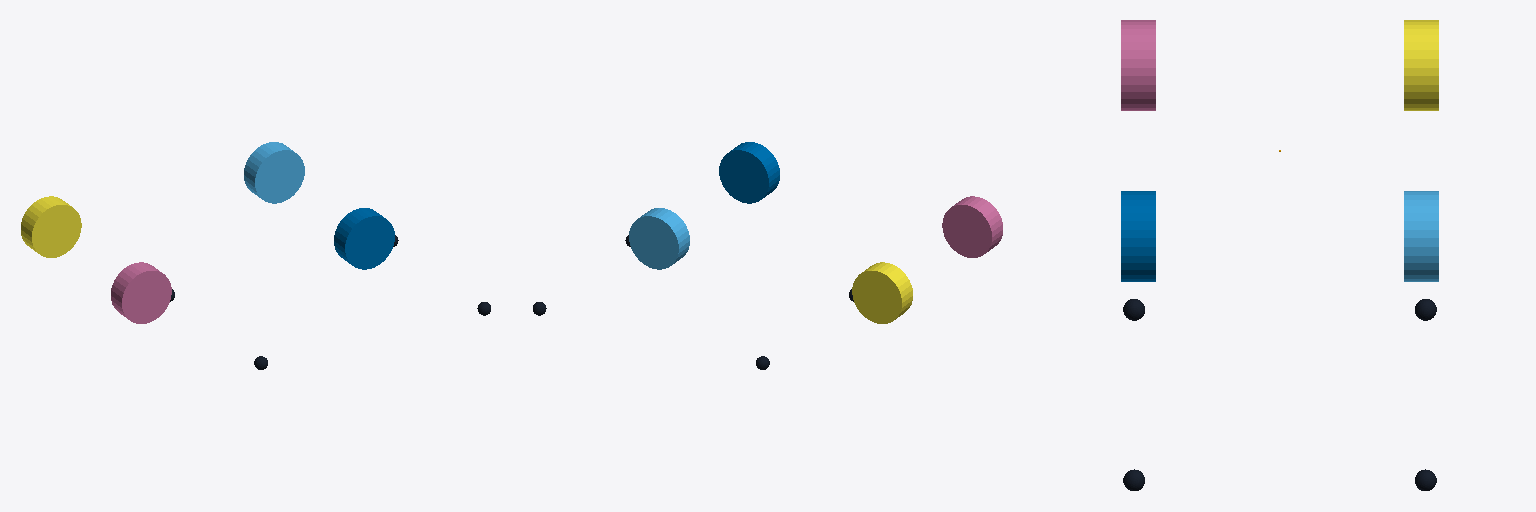
URDF robot description (a1_description):
<?xml version="1.0" ?>
<robot name="a1_description" xmlns:xacro="http://www.ros.org/wiki/xacro">
  <material name="black">
    <color rgba="0.0 0.0 0.0 1.0"/>
  </material>
  <material name="blue">
    <color rgba="0.0 0.0 0.8 1.0"/>
  </material>
  <material name="green">
    <color rgba="0.0 0.8 0.0 1.0"/>
  </material>
  <material name="grey">
    <color rgba="0.2 0.2 0.2 1.0"/>
  </material>
  <material name="silver">
    <color rgba="0.913725490196 0.913725490196 0.847058823529 1.0"/>
  </material>
  <material name="orange">
    <!-- <color rgba="1.0 0.423529411765 0.0392156862745 1.0"/> -->
    <color rgba="0.12 0.15 0.2 1.0"/>
  </material>
  <material name="brown">
    <color rgba="0.870588235294 0.811764705882 0.764705882353 1.0"/>
  </material>
  <material name="red">
    <color rgba="0.8 0.0 0.0 1.0"/>
  </material>
  <material name="white">
    <color rgba="1.0 1.0 1.0 1.0"/>
  </material>
  <link name="base">
    <visual>
      <origin rpy="0 0 0" xyz="0 0 0"/>
      <geometry>
        <box size="0.001 0.001 0.001"/>
      </geometry>
    </visual>
  </link>
  <joint name="floating_base" type="fixed">
    <origin rpy="0 0 0" xyz="0 0 0"/>
    <parent link="base"/>
    <child link="trunk"/>
  </joint>
  <link name="trunk">
    <visual>
      <origin rpy="0 0 0" xyz="0 0 0"/>
      <geometry>
        <mesh filename="../meshes/trunk.dae" scale="1 1 1"/>
      </geometry>
      <material name="orange"/>
    </visual>
    <collision>
      <origin rpy="0 0 0" xyz="0 0 0"/>
      <geometry>
        <box size="0.267 0.194 0.114"/>
      </geometry>
    </collision>
    <inertial>
      <origin rpy="0 0 0" xyz="0.012731 0.002186 0.000515"/>
      <mass value="6.055"/>
      <inertia ixx="0.01683993" ixy="8.3902e-05" ixz="0.000597679" iyy="0.056579028" iyz="2.5134e-05" izz="0.064713601"/>
    </inertial>
  </link>
  <joint name="imu_joint" type="fixed">
    <parent link="trunk"/>
    <child link="imu_link"/>
    <origin rpy="0 0 0" xyz="0 0 0"/>
  </joint>
  <link name="imu_link">
    <inertial>
      <mass value="0.001"/>
      <origin rpy="0 0 0" xyz="0 0 0"/>
      <inertia ixx="0.0001" ixy="0" ixz="0" iyy="0.0001" iyz="0" izz="0.0001"/>
    </inertial>
    <visual>
      <origin rpy="0 0 0" xyz="0 0 0"/>
      <geometry>
        <box size="0.001 0.001 0.001"/>
      </geometry>
      <material name="red"/>
    </visual>
    <!-- <collision>
      <origin rpy="0 0 0" xyz="0 0 0"/>
      <geometry>
        <box size=".001 .001 .001"/>
      </geometry>
    </collision> -->
  </link>
  <joint name="FR_hip_joint" type="revolute">
    <origin rpy="0 0 0" xyz="0.183 -0.047 0"/>
    <parent link="trunk"/>
    <child link="FR_hip"/>
    <axis xyz="1 0 0"/>
    <dynamics damping="0" friction="0"/>
    <limit effort="20" lower="-0.802851455917" upper="0.802851455917" velocity="52.4"/>
  </joint>
  <link name="FR_hip">
    <visual>
      <origin rpy="3.14159265359 0 0" xyz="0 0 0"/>
      <geometry>
        <mesh filename="../meshes/hip.dae" scale="1 1 1"/>
      </geometry>
      <material name="orange"/>
    </visual>
    <!-- <collision>
      <origin rpy="1.57079632679 0 0" xyz="0 0 0"/>
      <geometry>
        <cylinder length="0.04" radius="0.046"/>
      </geometry>
    </collision> -->
    <inertial>
      <origin rpy="0 0 0" xyz="-0.003311 -0.000635 3.1e-05"/>
      <mass value="0.696"/>
      <inertia ixx="0.000469246" ixy="9.409e-06" ixz="-3.42e-07" iyy="0.00080749" iyz="4.66e-07" izz="0.000552929"/>
    </inertial>
  </link>
  <joint name="FR_hip_fixed" type="fixed" dont_collapse="true">
    <origin rpy="0 0 0" xyz="0 -0.081 0"/>
    <parent link="FR_hip"/>
    <child link="FR_thigh_shoulder"/>
  </joint>
  <!-- this link is only for collision -->
  <link name="FR_thigh_shoulder">
    <visual>
      <origin rpy="1.57079632679 0 0" xyz="0 0 0"/>
      <geometry>
        <cylinder length="0.032" radius="0.041"/>
      </geometry>
    </visual>
    <collision>
      <origin rpy="1.57079632679 0 0" xyz="0 0 0"/>
      <geometry>
        <cylinder length="0.032" radius="0.041"/>
      </geometry>
    </collision>
    <inertial>
      <mass value="0.0001"/>
      <inertia ixx="9.6e-06" ixy="0.0" ixz="0.0" iyy="9.6e-06" iyz="0.0" izz="9.6e-06"/>
    </inertial>
  </link>
  <joint name="FR_thigh_joint" type="revolute">
    <origin rpy="0 0 0" xyz="0 -0.08505 0"/>
    <parent link="FR_hip"/>
    <child link="FR_thigh"/>
    <axis xyz="0 1 0"/>
    <dynamics damping="0" friction="0"/>
    <limit effort="55" lower="-1.0471975512" upper="4.18879020479" velocity="28.6"/>
  </joint>
  <link name="FR_thigh">
    <visual>
      <origin rpy="0 0 0" xyz="0 0 0"/>
      <geometry>
        <mesh filename="../meshes/thigh_mirror.dae" scale="1 1 1"/>
      </geometry>
      <material name="orange"/>
    </visual>
    <collision>
      <origin rpy="0 1.57079632679 0" xyz="0 0 -0.1"/>
      <geometry>
        <box size="0.2 0.0245 0.034"/>
      </geometry>
    </collision>
    <inertial>
      <origin rpy="0 0 0" xyz="-0.003237 0.022327 -0.027326"/>
      <mass value="1.013"/>
      <inertia ixx="0.005529065" ixy="-4.825e-06" ixz="0.000343869" iyy="0.005139339" iyz="-2.2448e-05" izz="0.001367788"/>
    </inertial>
  </link>
  <joint name="FR_calf_joint" type="revolute">
    <origin rpy="0 0 0" xyz="0 0 -0.2"/>
    <parent link="FR_thigh"/>
    <child link="FR_calf"/>
    <axis xyz="0 1 0"/>
    <dynamics damping="0" friction="0"/>
    <limit effort="55" lower="-2.69653369433" upper="-0.916297857297" velocity="28.6"/>
  </joint>
  <link name="FR_calf">
    <visual>
      <origin rpy="0 0 0" xyz="0 0 0"/>
      <geometry>
        <mesh filename="../meshes/calf.dae" scale="1 1 1"/>
      </geometry>
      <material name="orange"/>
    </visual>
    <collision>
      <origin rpy="0 1.57079632679 0" xyz="0 0 -0.1"/>
      <geometry>
        <box size="0.2 0.016 0.016"/>
      </geometry>
    </collision>
    <inertial>
      <origin rpy="0 0 0" xyz="0.006435 0.0 -0.107388"/>
      <mass value="0.166"/>
      <inertia ixx="0.002997972" ixy="0.0" ixz="-0.000141163" iyy="0.003014022" iyz="0.0" izz="3.2426e-05"/>
    </inertial>
  </link>
  <joint name="FR_foot_fixed" type="fixed" dont_collapse="true">
    <origin rpy="0 0 0" xyz="0 0 -0.2"/>
    <parent link="FR_calf"/>
    <child link="FR_foot"/>
  </joint>
  <link name="FR_foot">
    <visual>
      <origin rpy="0 0 0" xyz="0 0 0"/>
      <geometry>
        <sphere radius="0.01"/>
      </geometry>
      <material name="orange"/>
    </visual>
    <collision>
      <origin rpy="0 0 0" xyz="0 0 0"/>
      <geometry>
        <sphere radius="0.02"/>
      </geometry>
    </collision>
    <inertial>
      <mass value="0.06"/>
      <inertia ixx="9.6e-06" ixy="0.0" ixz="0.0" iyy="9.6e-06" iyz="0.0" izz="9.6e-06"/>
    </inertial>
  </link>
  <joint name="FL_hip_joint" type="revolute">
    <origin rpy="0 0 0" xyz="0.183 0.047 0"/>
    <parent link="trunk"/>
    <child link="FL_hip"/>
    <axis xyz="1 0 0"/>
    <dynamics damping="0" friction="0"/>
    <limit effort="20" lower="-0.802851455917" upper="0.802851455917" velocity="52.4"/>
  </joint>
  <link name="FL_hip">
    <visual>
      <origin rpy="0 0 0" xyz="0 0 0"/>
      <geometry>
        <mesh filename="../meshes/hip.dae" scale="1 1 1"/>
      </geometry>
      <material name="orange"/>
    </visual>
    <!-- <collision>
      <origin rpy="1.57079632679 0 0" xyz="0 0 0"/>
      <geometry>
        <cylinder length="0.04" radius="0.046"/>
      </geometry>
    </collision> -->
    <inertial>
      <origin rpy="0 0 0" xyz="-0.003311 0.000635 3.1e-05"/>
      <mass value="0.696"/>
      <inertia ixx="0.000469246" ixy="-9.409e-06" ixz="-3.42e-07" iyy="0.00080749" iyz="-4.66e-07" izz="0.000552929"/>
    </inertial>
  </link>
  <joint name="FL_hip_fixed" type="fixed" dont_collapse="true">
    <origin rpy="0 0 0" xyz="0 0.081 0"/>
    <parent link="FL_hip"/>
    <child link="FL_thigh_shoulder"/>
  </joint>
  <!-- this link is only for collision -->
  <link name="FL_thigh_shoulder">
    <visual>
      <origin rpy="1.57079632679 0 0" xyz="0 0 0"/>
      <geometry>
        <cylinder length="0.032" radius="0.041"/>
      </geometry>
    </visual>
    <collision>
      <origin rpy="1.57079632679 0 0" xyz="0 0 0"/>
      <geometry>
        <cylinder length="0.032" radius="0.041"/>
      </geometry>
    </collision>
    <inertial>
      <mass value="0.0001"/>
      <inertia ixx="9.6e-06" ixy="0.0" ixz="0.0" iyy="9.6e-06" iyz="0.0" izz="9.6e-06"/>
    </inertial>
  </link>
  <joint name="FL_thigh_joint" type="revolute">
    <origin rpy="0 0 0" xyz="0 0.08505 0"/>
    <parent link="FL_hip"/>
    <child link="FL_thigh"/>
    <axis xyz="0 1 0"/>
    <dynamics damping="0" friction="0"/>
    <limit effort="55" lower="-1.0471975512" upper="4.18879020479" velocity="28.6"/>
  </joint>
  <link name="FL_thigh">
    <visual>
      <origin rpy="0 0 0" xyz="0 0 0"/>
      <geometry>
        <mesh filename="../meshes/thigh.dae" scale="1 1 1"/>
      </geometry>
      <material name="orange"/>
    </visual>
    <collision>
      <origin rpy="0 1.57079632679 0" xyz="0 0 -0.1"/>
      <geometry>
        <box size="0.2 0.0245 0.034"/>
      </geometry>
    </collision>
    <inertial>
      <origin rpy="0 0 0" xyz="-0.003237 -0.022327 -0.027326"/>
      <mass value="1.013"/>
      <inertia ixx="0.005529065" ixy="4.825e-06" ixz="0.000343869" iyy="0.005139339" iyz="2.2448e-05" izz="0.001367788"/>
    </inertial>
  </link>
  <joint name="FL_calf_joint" type="revolute">
    <origin rpy="0 0 0" xyz="0 0 -0.2"/>
    <parent link="FL_thigh"/>
    <child link="FL_calf"/>
    <axis xyz="0 1 0"/>
    <dynamics damping="0" friction="0"/>
    <limit effort="55" lower="-2.69653369433" upper="-0.916297857297" velocity="28.6"/>
  </joint>
  <link name="FL_calf">
    <visual>
      <origin rpy="0 0 0" xyz="0 0 0"/>
      <geometry>
        <mesh filename="../meshes/calf.dae" scale="1 1 1"/>
      </geometry>
      <material name="orange"/>
    </visual>
    <collision>
      <origin rpy="0 1.57079632679 0" xyz="0 0 -0.1"/>
      <geometry>
        <box size="0.2 0.016 0.016"/>
      </geometry>
    </collision>
    <inertial>
      <origin rpy="0 0 0" xyz="0.006435 0.0 -0.107388"/>
      <mass value="0.166"/>
      <inertia ixx="0.002997972" ixy="0.0" ixz="-0.000141163" iyy="0.003014022" iyz="0.0" izz="3.2426e-05"/>
    </inertial>
  </link>
  <joint name="FL_foot_fixed" type="fixed" dont_collapse="true">
    <origin rpy="0 0 0" xyz="0 0 -0.2"/>
    <parent link="FL_calf"/>
    <child link="FL_foot"/>
  </joint>
  <link name="FL_foot">
    <visual>
      <origin rpy="0 0 0" xyz="0 0 0"/>
      <geometry>
        <sphere radius="0.01"/>
      </geometry>
      <material name="orange"/>
    </visual>
    <collision>
      <origin rpy="0 0 0" xyz="0 0 0"/>
      <geometry>
        <sphere radius="0.02"/>
      </geometry>
    </collision>
    <inertial>
      <mass value="0.06"/>
      <inertia ixx="9.6e-06" ixy="0.0" ixz="0.0" iyy="9.6e-06" iyz="0.0" izz="9.6e-06"/>
    </inertial>
  </link>
  <joint name="RR_hip_joint" type="revolute">
    <origin rpy="0 0 0" xyz="-0.183 -0.047 0"/>
    <parent link="trunk"/>
    <child link="RR_hip"/>
    <axis xyz="1 0 0"/>
    <dynamics damping="0" friction="0"/>
    <limit effort="20" lower="-0.802851455917" upper="0.802851455917" velocity="52.4"/>
  </joint>
  <link name="RR_hip">
    <visual>
      <origin rpy="3.14159265359 3.14159265359 0" xyz="0 0 0"/>
      <geometry>
        <mesh filename="../meshes/hip.dae" scale="1 1 1"/>
      </geometry>
      <material name="orange"/>
    </visual>
    <!-- <collision>
      <origin rpy="1.57079632679 0 0" xyz="0 0 0"/>
      <geometry>
        <cylinder length="0.04" radius="0.046"/>
      </geometry>
    </collision> -->
    <inertial>
      <origin rpy="0 0 0" xyz="0.003311 -0.000635 3.1e-05"/>
      <mass value="0.696"/>
      <inertia ixx="0.000469246" ixy="-9.409e-06" ixz="3.42e-07" iyy="0.00080749" iyz="4.66e-07" izz="0.000552929"/>
    </inertial>
  </link>
  <joint name="RR_hip_fixed" type="fixed" dont_collapse="true">
    <origin rpy="0 0 0" xyz="0 -0.081 0"/>
    <parent link="RR_hip"/>
    <child link="RR_thigh_shoulder"/>
  </joint>
  <!-- this link is only for collision -->
  <link name="RR_thigh_shoulder">
    <visual>
      <origin rpy="1.57079632679 0 0" xyz="0 0 0"/>
      <geometry>
        <cylinder length="0.032" radius="0.041"/>
      </geometry>
    </visual>
    <collision>
      <origin rpy="1.57079632679 0 0" xyz="0 0 0"/>
      <geometry>
        <cylinder length="0.032" radius="0.041"/>
      </geometry>
    </collision>
    <inertial>
      <mass value="0.0001"/>
      <inertia ixx="9.6e-06" ixy="0.0" ixz="0.0" iyy="9.6e-06" iyz="0.0" izz="9.6e-06"/>
    </inertial>
  </link>
  <joint name="RR_thigh_joint" type="revolute">
    <origin rpy="0 0 0" xyz="0 -0.08505 0"/>
    <parent link="RR_hip"/>
    <child link="RR_thigh"/>
    <axis xyz="0 1 0"/>
    <dynamics damping="0" friction="0"/>
    <limit effort="55" lower="-1.0471975512" upper="4.18879020479" velocity="28.6"/>
  </joint>
  <link name="RR_thigh">
    <visual>
      <origin rpy="0 0 0" xyz="0 0 0"/>
      <geometry>
        <mesh filename="../meshes/thigh_mirror.dae" scale="1 1 1"/>
      </geometry>
      <material name="orange"/>
    </visual>
    <collision>
      <origin rpy="0 1.57079632679 0" xyz="0 0 -0.1"/>
      <geometry>
        <box size="0.2 0.0245 0.034"/>
      </geometry>
    </collision>
    <inertial>
      <origin rpy="0 0 0" xyz="-0.003237 0.022327 -0.027326"/>
      <mass value="1.013"/>
      <inertia ixx="0.005529065" ixy="-4.825e-06" ixz="0.000343869" iyy="0.005139339" iyz="-2.2448e-05" izz="0.001367788"/>
    </inertial>
  </link>
  <joint name="RR_calf_joint" type="revolute">
    <origin rpy="0 0 0" xyz="0 0 -0.2"/>
    <parent link="RR_thigh"/>
    <child link="RR_calf"/>
    <axis xyz="0 1 0"/>
    <dynamics damping="0" friction="0"/>
    <limit effort="55" lower="-2.69653369433" upper="-0.916297857297" velocity="28.6"/>
  </joint>
  <link name="RR_calf">
    <visual>
      <origin rpy="0 0 0" xyz="0 0 0"/>
      <geometry>
        <mesh filename="../meshes/calf.dae" scale="1 1 1"/>
      </geometry>
      <material name="orange"/>
    </visual>
    <collision>
      <origin rpy="0 1.57079632679 0" xyz="0 0 -0.1"/>
      <geometry>
        <box size="0.2 0.016 0.016"/>
      </geometry>
    </collision>
    <inertial>
      <origin rpy="0 0 0" xyz="0.006435 0.0 -0.107388"/>
      <mass value="0.166"/>
      <inertia ixx="0.002997972" ixy="0.0" ixz="-0.000141163" iyy="0.003014022" iyz="0.0" izz="3.2426e-05"/>
    </inertial>
  </link>
  <joint name="RR_foot_fixed" type="fixed" dont_collapse="true">
    <origin rpy="0 0 0" xyz="0 0 -0.2"/>
    <parent link="RR_calf"/>
    <child link="RR_foot"/>
  </joint>
  <link name="RR_foot">
    <visual>
      <origin rpy="0 0 0" xyz="0 0 0"/>
      <geometry>
        <sphere radius="0.01"/>
      </geometry>
      <material name="orange"/>
    </visual>
    <collision>
      <origin rpy="0 0 0" xyz="0 0 0"/>
      <geometry>
        <sphere radius="0.02"/>
      </geometry>
    </collision>
    <inertial>
      <mass value="0.06"/>
      <inertia ixx="9.6e-06" ixy="0.0" ixz="0.0" iyy="9.6e-06" iyz="0.0" izz="9.6e-06"/>
    </inertial>
  </link>
  <joint name="RL_hip_joint" type="revolute">
    <origin rpy="0 0 0" xyz="-0.183 0.047 0"/>
    <parent link="trunk"/>
    <child link="RL_hip"/>
    <axis xyz="1 0 0"/>
    <dynamics damping="0" friction="0"/>
    <limit effort="20" lower="-0.802851455917" upper="0.802851455917" velocity="52.4"/>
  </joint>
  <link name="RL_hip">
    <visual>
      <origin rpy="0 3.14159265359 0" xyz="0 0 0"/>
      <geometry>
        <mesh filename="../meshes/hip.dae" scale="1 1 1"/>
      </geometry>
      <material name="orange"/>
    </visual>
    <!-- <collision>
      <origin rpy="1.57079632679 0 0" xyz="0 0 0"/>
      <geometry>
        <cylinder length="0.04" radius="0.046"/>
      </geometry>
    </collision> -->
    <inertial>
      <origin rpy="0 0 0" xyz="0.003311 0.000635 3.1e-05"/>
      <mass value="0.696"/>
      <inertia ixx="0.000469246" ixy="9.409e-06" ixz="3.42e-07" iyy="0.00080749" iyz="-4.66e-07" izz="0.000552929"/>
    </inertial>
  </link>
  <joint name="RL_hip_fixed" type="fixed" dont_collapse="true">
    <origin rpy="0 0 0" xyz="0 0.081 0"/>
    <parent link="RL_hip"/>
    <child link="RL_thigh_shoulder"/>
  </joint>
  <!-- this link is only for collision -->
  <link name="RL_thigh_shoulder">
    <visual>
      <origin rpy="1.57079632679 0 0" xyz="0 0 0"/>
      <geometry>
        <cylinder length="0.032" radius="0.041"/>
      </geometry>
    </visual>
    <collision>
      <origin rpy="1.57079632679 0 0" xyz="0 0 0"/>
      <geometry>
        <cylinder length="0.032" radius="0.041"/>
      </geometry>
    </collision>
    <inertial>
      <mass value="0.0001"/>
      <inertia ixx="9.6e-06" ixy="0.0" ixz="0.0" iyy="9.6e-06" iyz="0.0" izz="9.6e-06"/>
    </inertial>
  </link>
  <joint name="RL_thigh_joint" type="revolute">
    <origin rpy="0 0 0" xyz="0 0.08505 0"/>
    <parent link="RL_hip"/>
    <child link="RL_thigh"/>
    <axis xyz="0 1 0"/>
    <dynamics damping="0" friction="0"/>
    <limit effort="55" lower="-1.0471975512" upper="4.18879020479" velocity="28.6"/>
  </joint>
  <link name="RL_thigh">
    <visual>
      <origin rpy="0 0 0" xyz="0 0 0"/>
      <geometry>
        <mesh filename="../meshes/thigh.dae" scale="1 1 1"/>
      </geometry>
      <material name="orange"/>
    </visual>
    <collision>
      <origin rpy="0 1.57079632679 0" xyz="0 0 -0.1"/>
      <geometry>
        <box size="0.2 0.0245 0.034"/>
      </geometry>
    </collision>
    <inertial>
      <origin rpy="0 0 0" xyz="-0.003237 -0.022327 -0.027326"/>
      <mass value="1.013"/>
      <inertia ixx="0.005529065" ixy="4.825e-06" ixz="0.000343869" iyy="0.005139339" iyz="2.2448e-05" izz="0.001367788"/>
    </inertial>
  </link>
  <joint name="RL_calf_joint" type="revolute">
    <origin rpy="0 0 0" xyz="0 0 -0.2"/>
    <parent link="RL_thigh"/>
    <child link="RL_calf"/>
    <axis xyz="0 1 0"/>
    <dynamics damping="0" friction="0"/>
    <limit effort="55" lower="-2.69653369433" upper="-0.916297857297" velocity="28.6"/>
  </joint>
  <link name="RL_calf">
    <visual>
      <origin rpy="0 0 0" xyz="0 0 0"/>
      <geometry>
        <mesh filename="../meshes/calf.dae" scale="1 1 1"/>
      </geometry>
      <material name="orange"/>
    </visual>
    <collision>
      <origin rpy="0 1.57079632679 0" xyz="0 0 -0.1"/>
      <geometry>
        <box size="0.2 0.016 0.016"/>
      </geometry>
    </collision>
    <inertial>
      <origin rpy="0 0 0" xyz="0.006435 0.0 -0.107388"/>
      <mass value="0.166"/>
      <inertia ixx="0.002997972" ixy="0.0" ixz="-0.000141163" iyy="0.003014022" iyz="0.0" izz="3.2426e-05"/>
    </inertial>
  </link>
  <joint name="RL_foot_fixed" type="fixed" dont_collapse="true">
    <origin rpy="0 0 0" xyz="0 0 -0.2"/>
    <parent link="RL_calf"/>
    <child link="RL_foot"/>
  </joint>
  <link name="RL_foot">
    <visual>
      <origin rpy="0 0 0" xyz="0 0 0"/>
      <geometry>
        <sphere radius="0.01"/>
      </geometry>
      <material name="orange"/>
    </visual>
    <collision>
      <origin rpy="0 0 0" xyz="0 0 0"/>
      <geometry>
        <sphere radius="0.02"/>
      </geometry>
    </collision>
    <inertial>
      <mass value="0.06"/>
      <inertia ixx="9.6e-06" ixy="0.0" ixz="0.0" iyy="9.6e-06" iyz="0.0" izz="9.6e-06"/>
    </inertial>
  </link>
</robot>

--- What the picture shows (computed from the rendered views, not written in the file) ---
3 views of the same robot in one strip: view 1: azimuth 30°, elevation 25°; view 2: azimuth 150°, elevation 25°; view 3: azimuth 270°, elevation 25° (orthographic).
Robot: a1_description — 23 links, 22 joints (12 revolute, 10 fixed); root link base; default pose: joints at zero except 4 at the middle of their limits (FR_calf_joint = -1.81, FL_calf_joint = -1.81, RR_calf_joint = -1.81, RL_calf_joint = -1.81).
Visible links, largest first — view 1: FR_thigh_shoulder, RR_thigh_shoulder, RL_thigh_shoulder, FL_thigh_shoulder; view 2: FL_thigh_shoulder, RL_thigh_shoulder, RR_thigh_shoulder, FR_thigh_shoulder; view 3: FR_thigh_shoulder, FL_thigh_shoulder, RR_thigh_shoulder, RL_thigh_shoulder.
Boxes of the visible links, x1,y1,x2,y2 form: FR_thigh_shoulder: (334, 208, 394, 269); RR_thigh_shoulder: (111, 262, 171, 323); RL_thigh_shoulder: (21, 196, 81, 257); FL_thigh_shoulder: (244, 142, 304, 203); FL_thigh_shoulder: (629, 208, 689, 269); RL_thigh_shoulder: (852, 262, 912, 323); RR_thigh_shoulder: (942, 196, 1002, 257); FR_thigh_shoulder: (719, 142, 779, 203); FR_thigh_shoulder: (1121, 191, 1155, 281); FL_thigh_shoulder: (1404, 191, 1438, 281); RR_thigh_shoulder: (1121, 20, 1155, 110); RL_thigh_shoulder: (1404, 20, 1438, 110).
Bounding box of the posed robot: 0.6115 × 0.288 × 0.2043 m (x, y, z).
Meshes: 5 distinct files referenced, 0 mesh visuals loaded (none loaded); not drawn: 13 (reference not matched to a file when rendering).